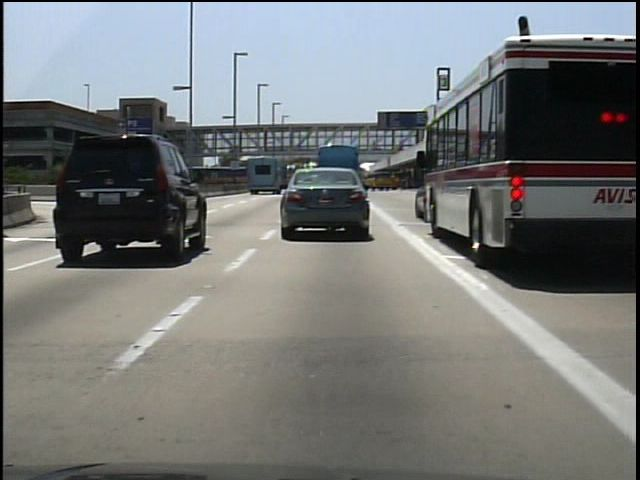car: (384, 73, 629, 280), (47, 126, 220, 270), (275, 162, 367, 240)
